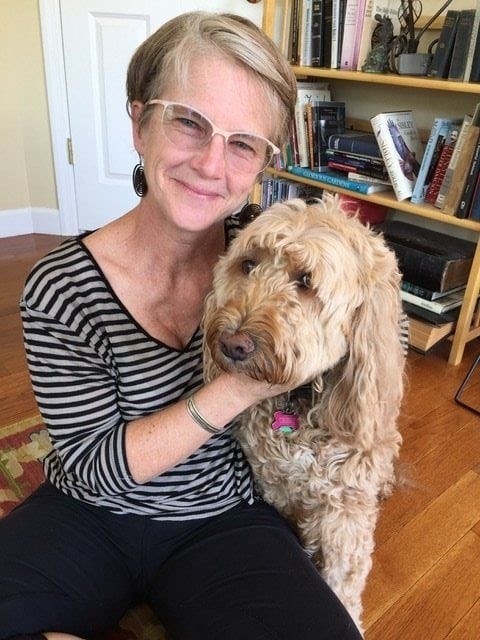face_no_mask: (135, 32, 280, 239)
